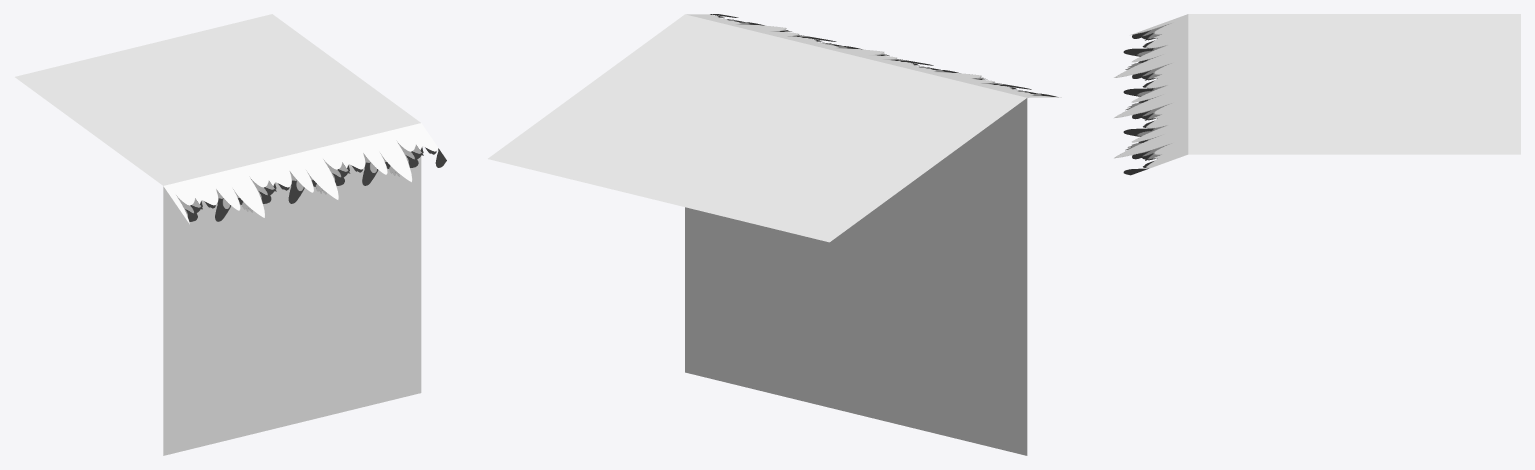
3 renders of one model, left to right at view 1: azimuth 30°, elevation 25°; view 2: azimuth 150°, elevation 25°; view 3: azimuth 270°, elevation 25°, orthographic. The views are drawn at different scales.
Visible parts, largest first — view 1: Cube; view 2: Cube; view 3: Cube.
Part boxes in pixels (x1=…): Cube: x1=15, y1=14, x2=446, y2=455; Cube: x1=488, y1=14, x2=1061, y2=455; Cube: x1=1114, y1=14, x2=1520, y2=175.
Size of the model in its own units: 1 by 1 by 1.25.
Materials: 1 (1 with a texture image).
